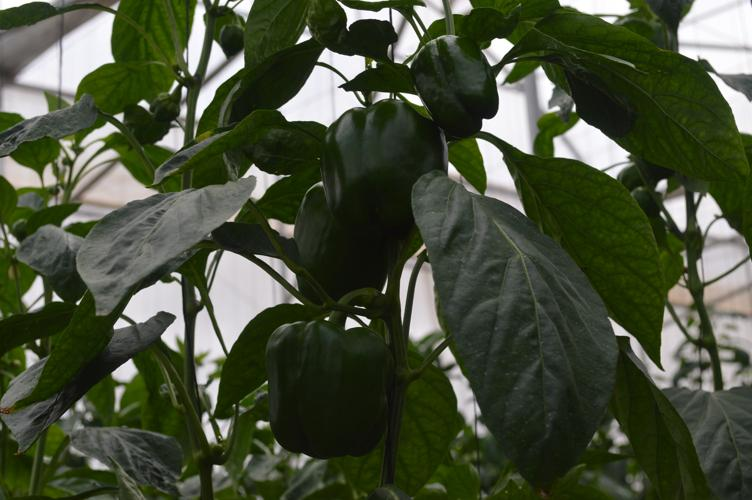BellPepper: (266, 321, 391, 457), (322, 97, 446, 232), (293, 184, 382, 300), (413, 38, 504, 137)
